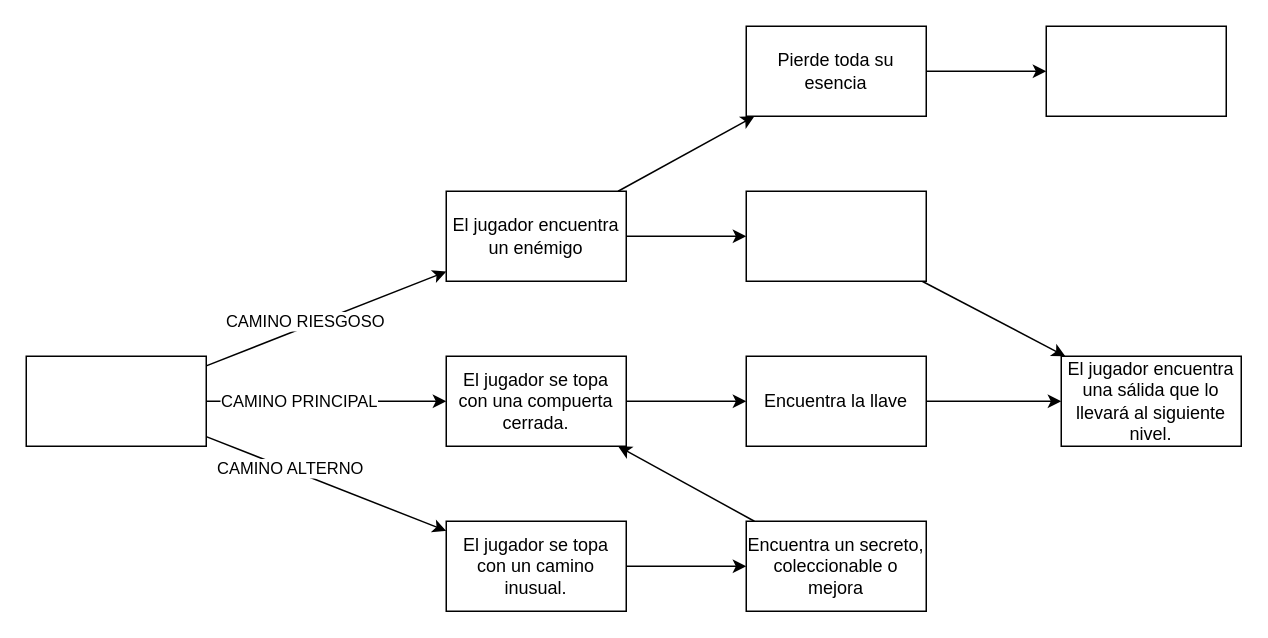
This 1268x638 diagram has some shape labels left out. The shapes that lost their labels are listed below. From the top down, each one's centre as x and y in pixels, then its label:
At point (1135, 70): "Game Over".
At point (835, 235): "Derrota el enémigo".
At point (115, 400): "El jugador navega el nivel".
